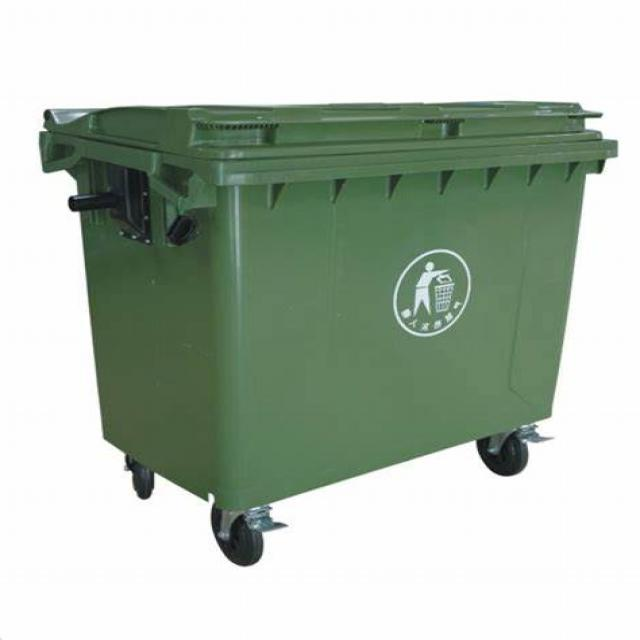garbage container: (6, 53, 640, 579)
